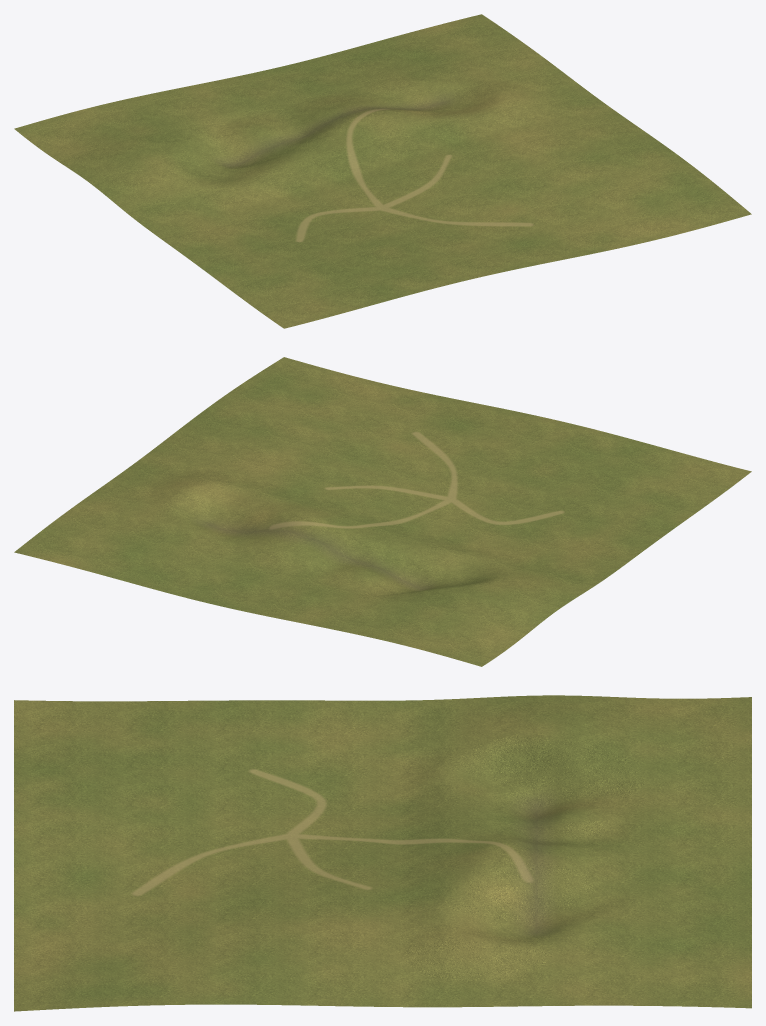
Rendered from artist-asset.glb.
3 views of the same model, one above another, from view 1: azimuth 30°, elevation 25°; view 2: azimuth 150°, elevation 25°; view 3: azimuth 270°, elevation 25° (orthographic). The views are drawn at different scales.
Visible parts, largest first — view 1: ZoneOne continuous prairie source; view 2: ZoneOne continuous prairie source; view 3: ZoneOne continuous prairie source.
Boxes of the visible parts, x1,y1,x2,y2 form: ZoneOne continuous prairie source: [14, 14, 751, 328]; ZoneOne continuous prairie source: [14, 357, 751, 666]; ZoneOne continuous prairie source: [14, 695, 751, 1011].
Bounding box in the file's own units: 240 × 14.05 × 240.
1 material, 1 textured.
